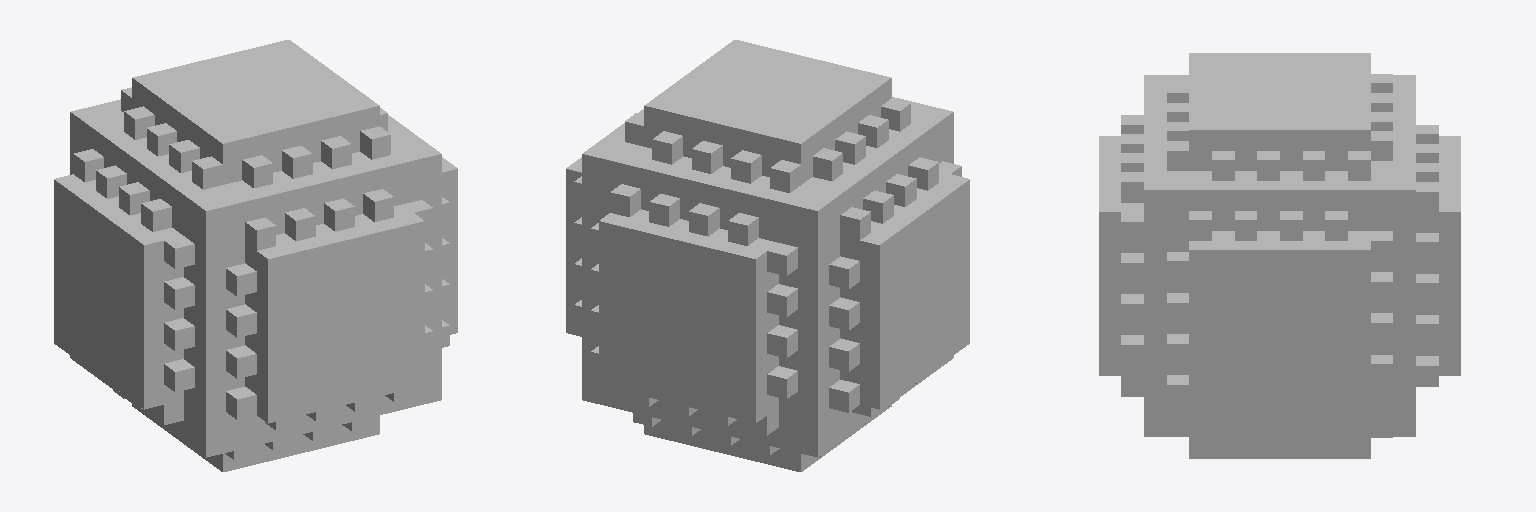
The model's file is MNM_CP.obj.
The picture shows the model from 3 angles: view 1: azimuth 30°, elevation 25°; view 2: azimuth 150°, elevation 25°; view 3: azimuth 270°, elevation 25°; orthographic projection.
Parts seen in each view (by area): view 1: Cube; view 2: Cube; view 3: Cube.
Part boxes in pixels (left/top/right/bottom): Cube: left=54, top=40, right=457, bottom=471; Cube: left=566, top=40, right=969, bottom=471; Cube: left=1099, top=53, right=1460, bottom=458.
Size of the model in its own units: 16 by 16 by 16.